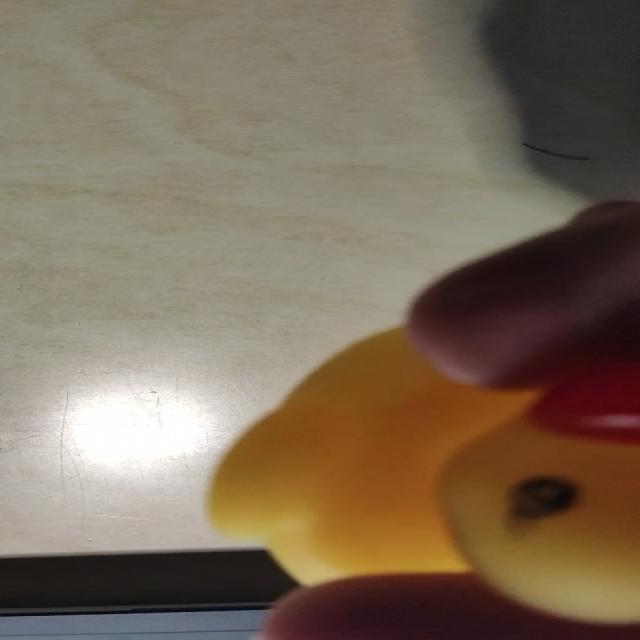rubber-duck: (209, 327, 638, 622)
